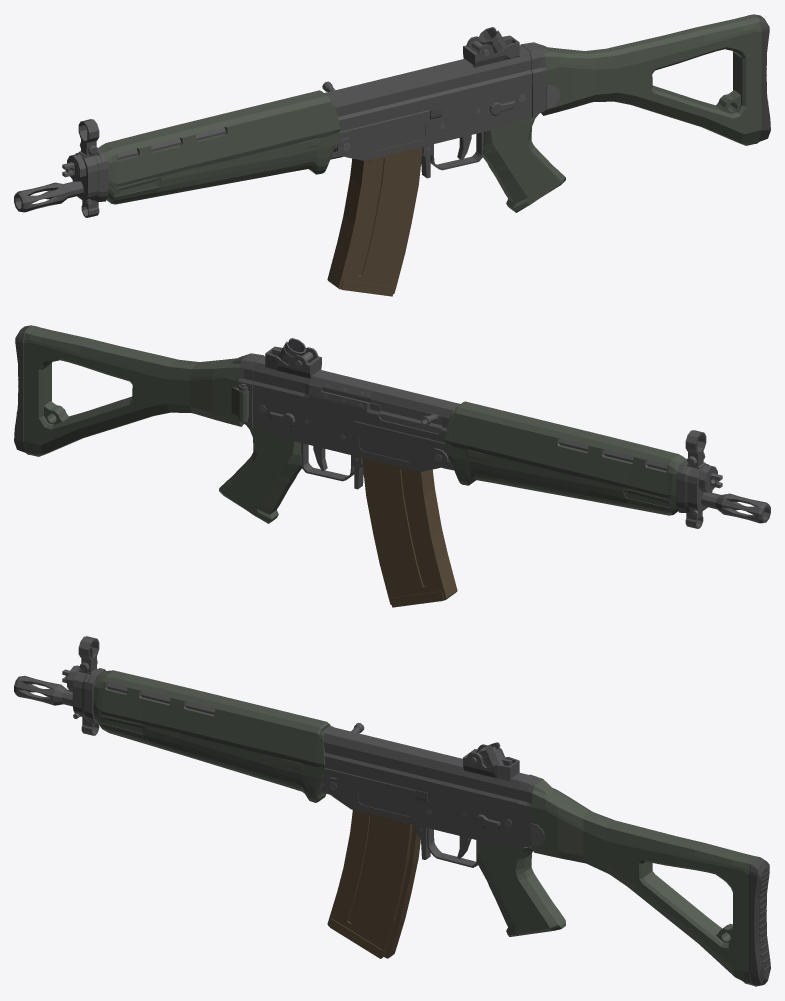
The model's file is SIG SG 551.fbx.
3 views of the same model, one above another, from view 1: azimuth 30°, elevation 25°; view 2: azimuth 150°, elevation 25°; view 3: azimuth 330°, elevation 25° (orthographic).
Visible parts, largest first — view 1: Cube.015, Cube.019; view 2: Cube.015, Cube.019, Cube.010; view 3: Cube.015, Cube.019.
Boxes of the visible parts, <box> form: Cube.015: <box>14,14,770,217</box>; Cube.019: <box>327,147,422,296</box>; Cube.015: <box>14,325,770,528</box>; Cube.019: <box>362,458,457,607</box>; Cube.010: <box>371,398,442,433</box>; Cube.015: <box>14,636,770,986</box>; Cube.019: <box>327,810,420,958</box>.
Size of the model in its own units: 4188 by 1309 by 248.
